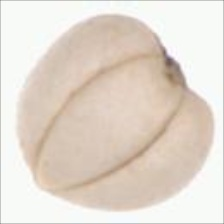L5: (31, 53, 186, 195), (149, 32, 199, 99)
L6: (14, 13, 217, 214)
